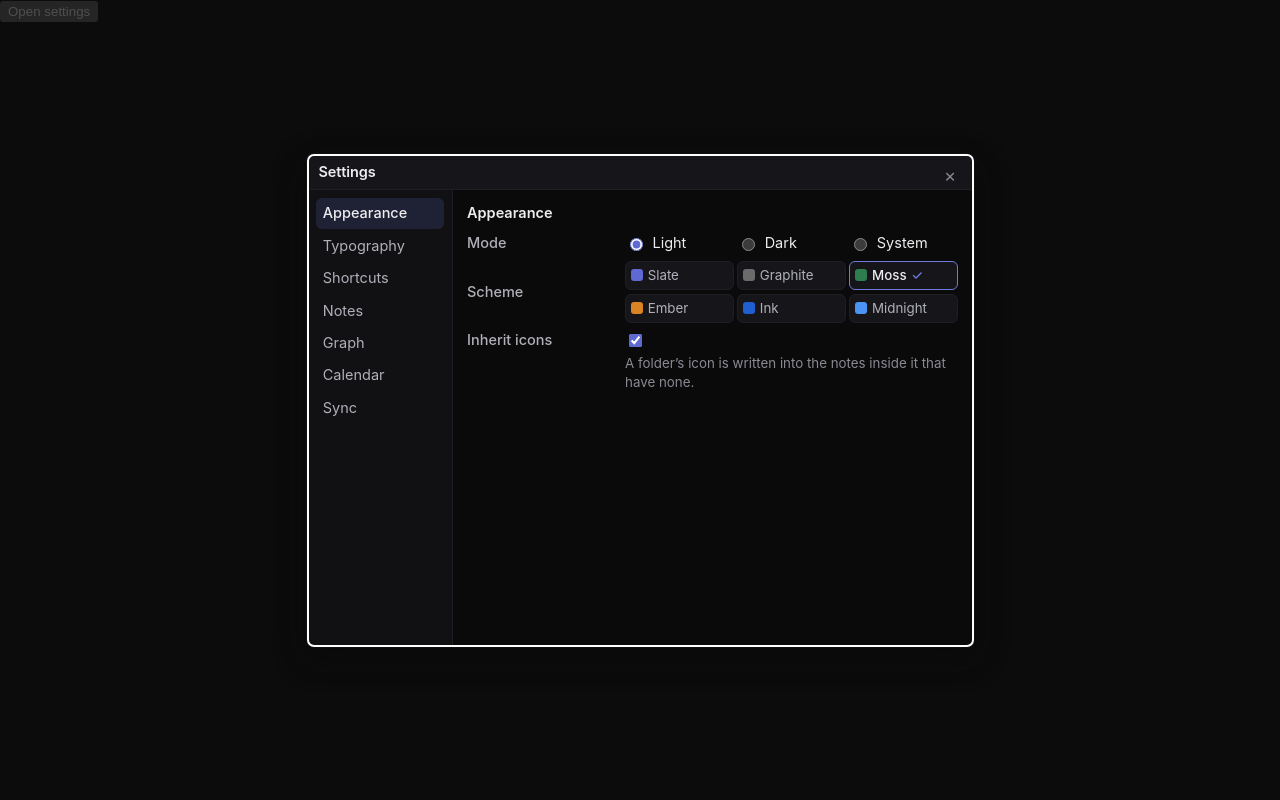
it: capturing a shortcut › takes the next keypress as the combo
Step 1. Click the button "Shortcuts" → click(380, 278), box [316,263,444,294]
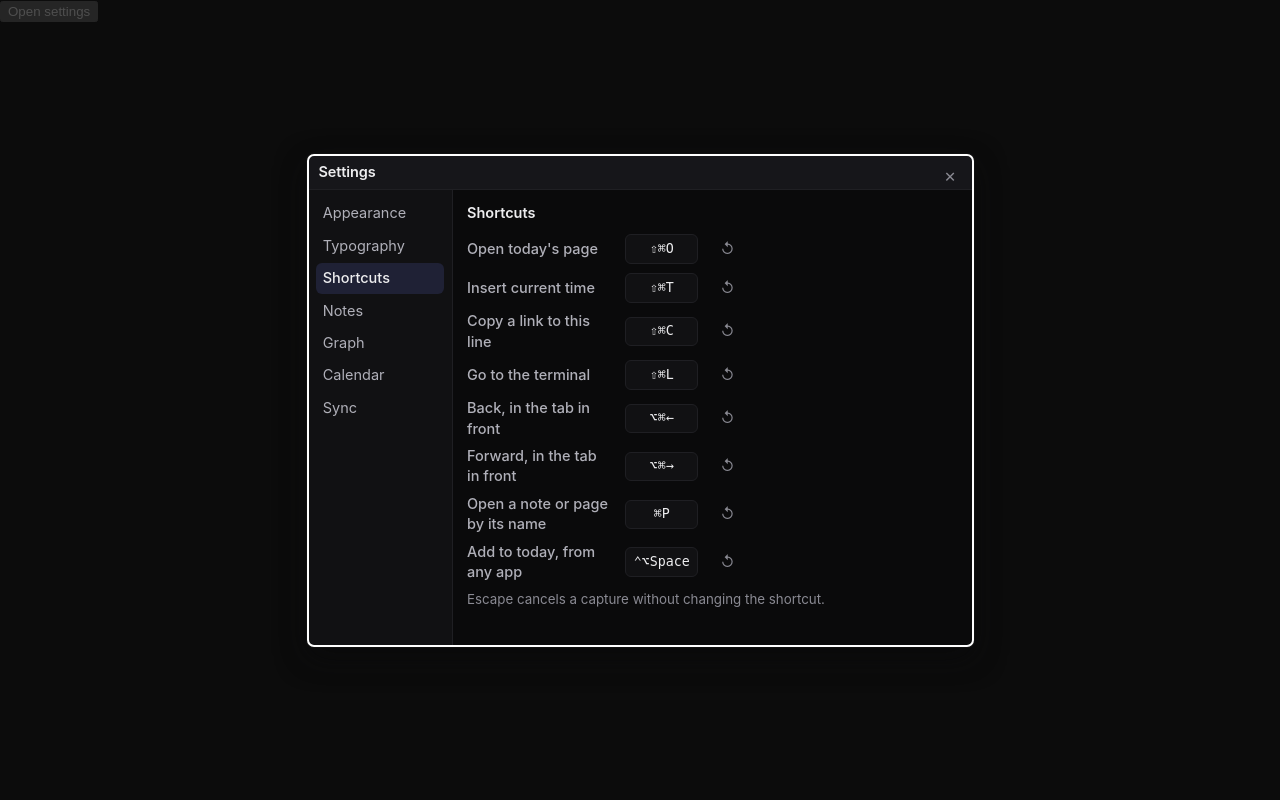
Expected: the button named "Open today's page" reads "⇧⌘O"
Step 2. Click the button named "Open today's page" → click(662, 249), box [625,234,698,264]
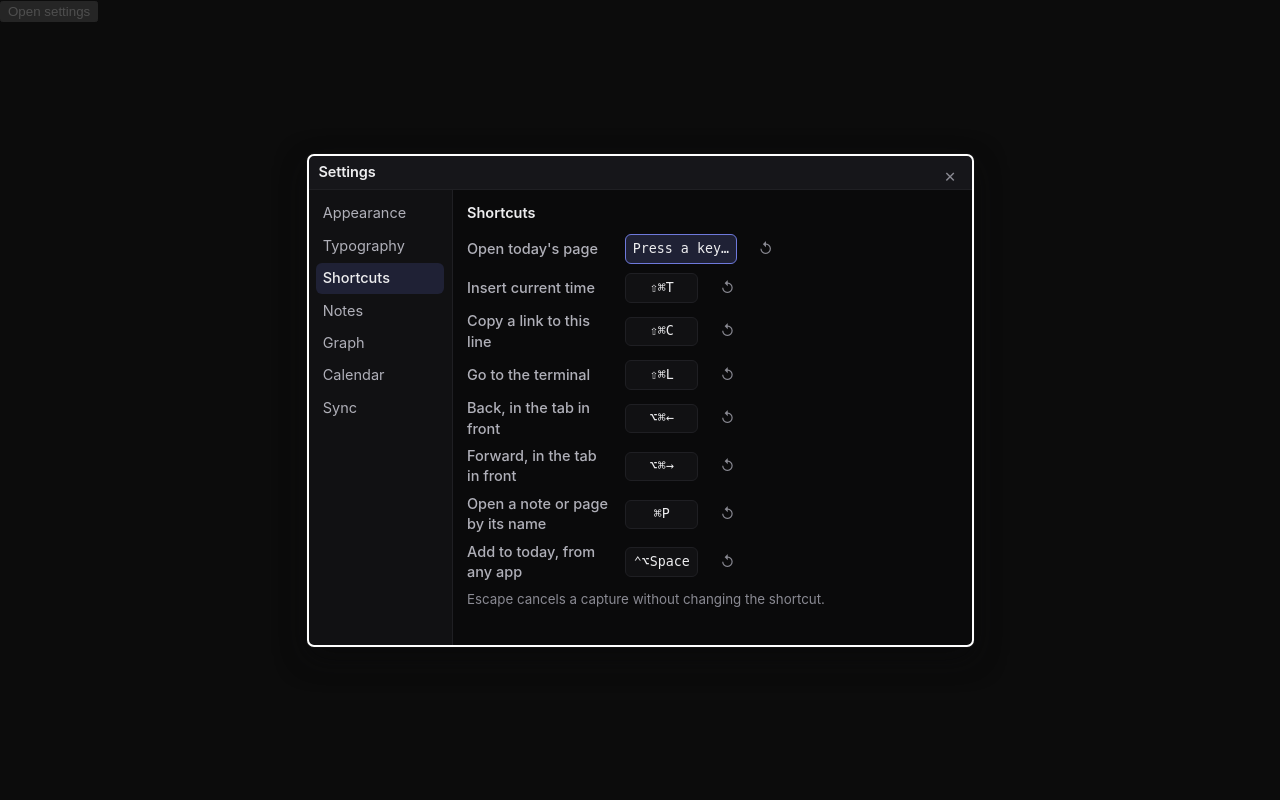
Expected: the button named "Open today's page" has class "capturing", [625,234,737,264]
Step 3. Press Meta in the dialog, box [306,154,974,646]
Expected: the button named "Open today's page" has class "capturing", [625,234,737,264]
Step 4. Press k in the dialog, box [306,154,974,646]
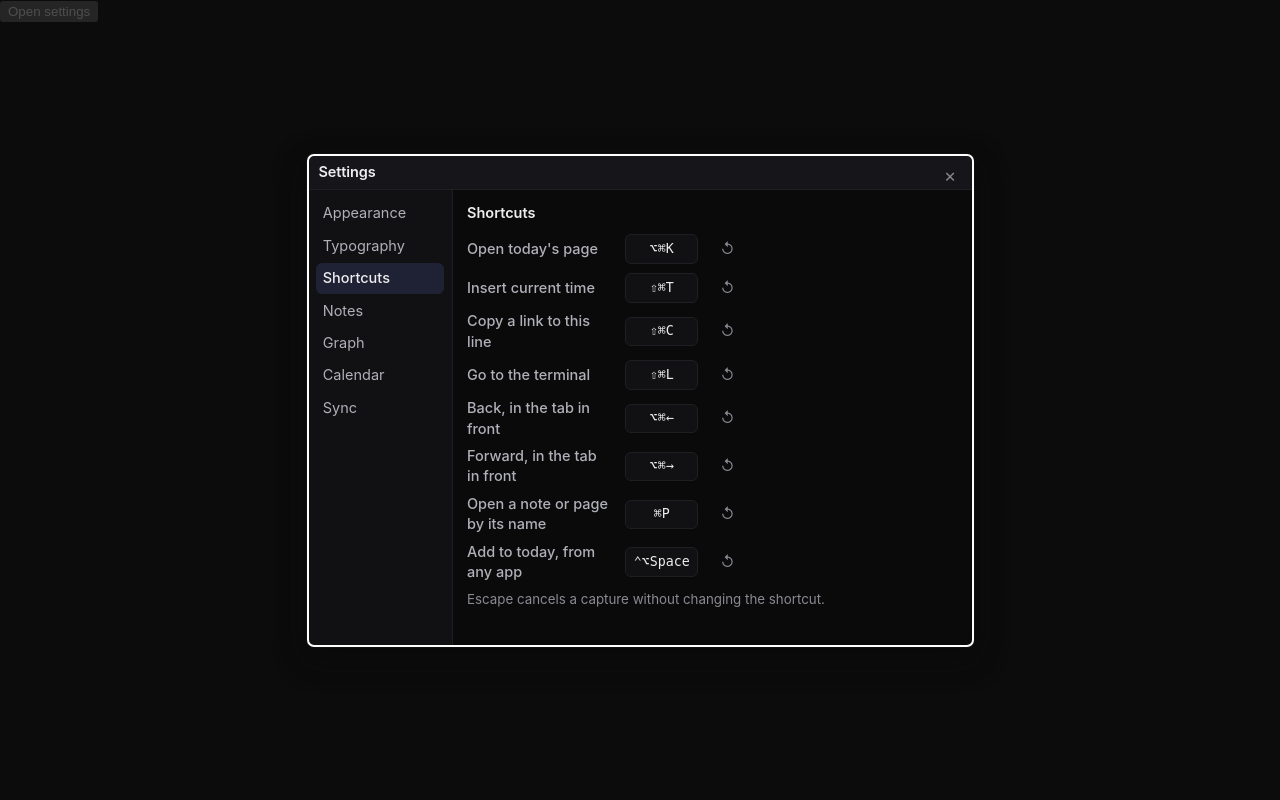
Expected: the button named "Open today's page" reads "⌥⌘K", [625,234,698,264]
